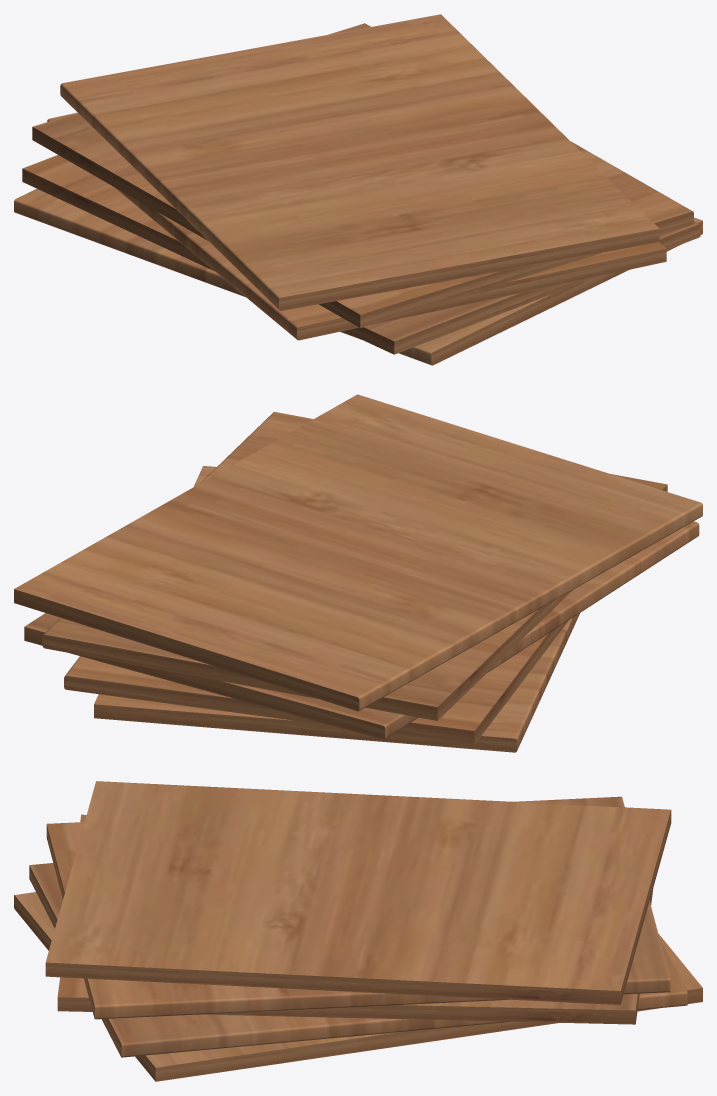
Rendered from CR_Journal1.glb.
3 renders of one model, top to bottom at view 1: azimuth 30°, elevation 25°; view 2: azimuth 150°, elevation 25°; view 3: azimuth 270°, elevation 25°, orthographic. The views are drawn at different scales.
Parts seen in each view (by area): view 1: Journal_1; view 2: Journal_1; view 3: Journal_1.
Boxes of the visible parts, x1,y1,x2,y2 form: Journal_1: (14,14,702,365); Journal_1: (14,394,702,752); Journal_1: (14,781,702,1081).
Bounding box in the file's own units: 0.3423 × 0.0443 × 0.3935.
Materials: 1 (1 with a texture image).
